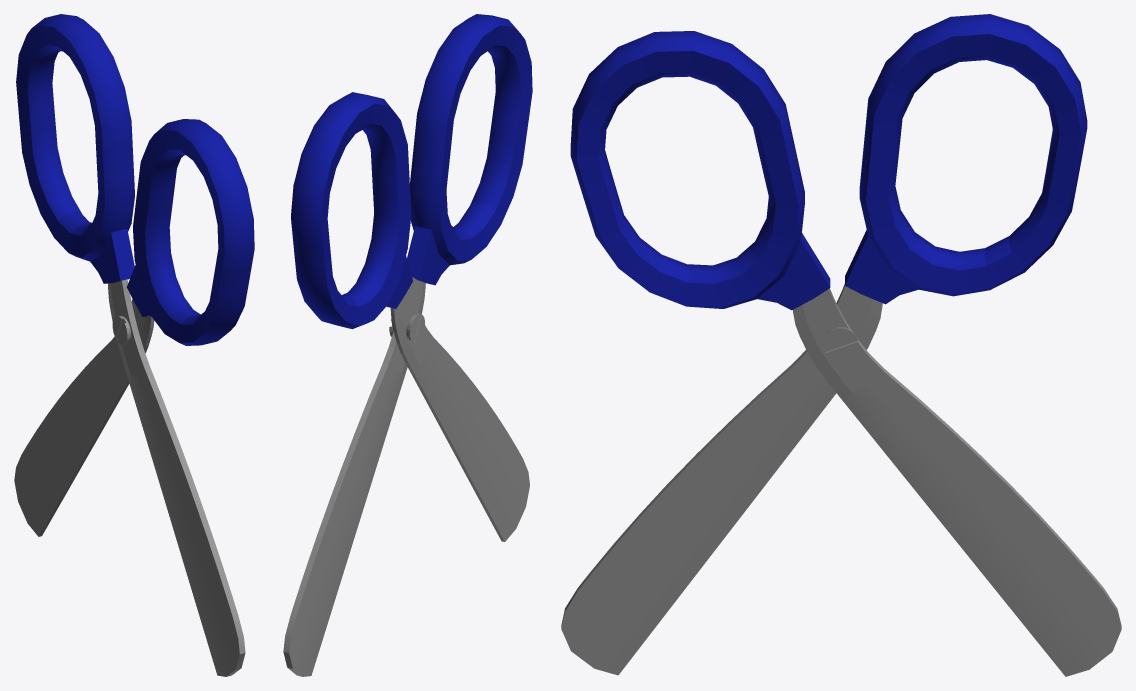
The model's file is Scissors.FBX.
3 views of the same model, side by side, from view 1: azimuth 30°, elevation 25°; view 2: azimuth 150°, elevation 25°; view 3: azimuth 270°, elevation 25° (orthographic). The views are drawn at different scales.
Visible parts, largest first — view 1: Box070; view 2: Box070; view 3: Box070.
Part boxes in pixels (bbox=[...]): Box070: bbox=[14, 14, 254, 676]; Box070: bbox=[283, 14, 532, 676]; Box070: bbox=[561, 14, 1121, 676].
Size of the model in its own units: 42.68 by 740 by 571.
